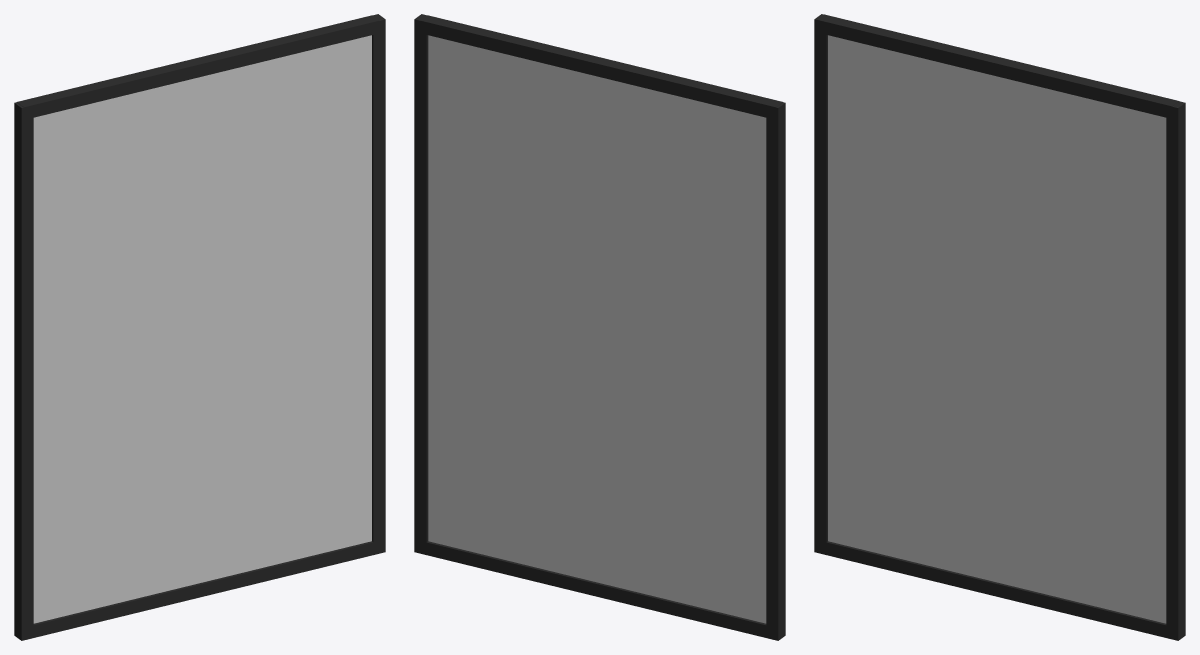
Rendered from balconyDoor02.gltf.
3 renders of one model, left to right at view 1: azimuth 30°, elevation 25°; view 2: azimuth 150°, elevation 25°; view 3: azimuth 330°, elevation 25°, orthographic.
Visible parts, largest first — view 1: balconyWindow2, construction11, construction5, construction6; view 2: balconyWindow2, construction11, construction5, construction6; view 3: balconyWindow2, construction11, construction5, construction6.
Boxes of the visible parts, left/top/right/bottom form: balconyWindow2: left=33, top=35, right=371, bottom=623; construction11: left=14, top=14, right=385, bottom=640; construction5: left=17, top=15, right=379, bottom=119; construction6: left=24, top=541, right=379, bottom=640; balconyWindow2: left=428, top=35, right=766, bottom=623; construction11: left=414, top=14, right=785, bottom=640; construction5: left=420, top=15, right=782, bottom=117; construction6: left=426, top=541, right=766, bottom=637; balconyWindow2: left=828, top=35, right=1166, bottom=623; construction11: left=814, top=14, right=1185, bottom=640; construction5: left=816, top=14, right=1178, bottom=118; construction6: left=816, top=540, right=1171, bottom=639.
Size of the model in its own units: 0.536 by 0.7501 by 0.0186.
Materials: 2 (1 with a texture image).
